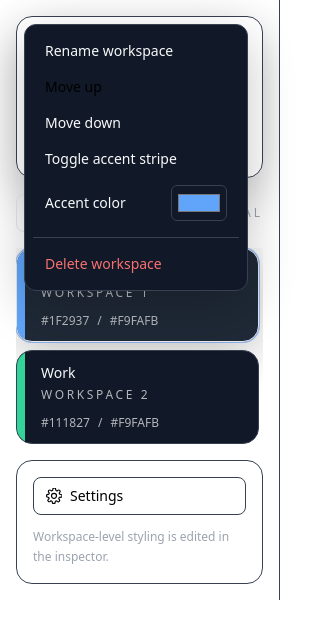
it: context menu dismissal › workspace menu rename action renames the workspace and closes the menu
Click the button "Rename workspace".
click(136, 51)  # box [33,33,239,69]
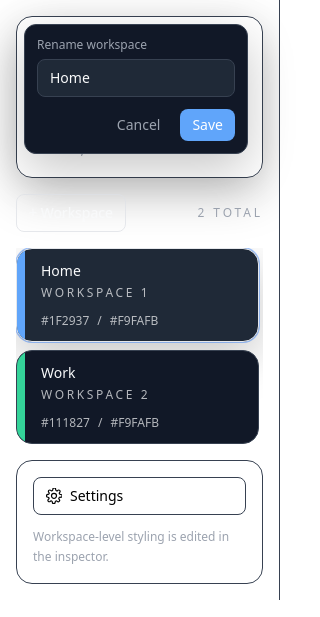
Now the field named "Workspace name" is shown
Replace the text in the field named "Workspace name" with "Renamed Home" at (136, 78), box [37,59,235,97]
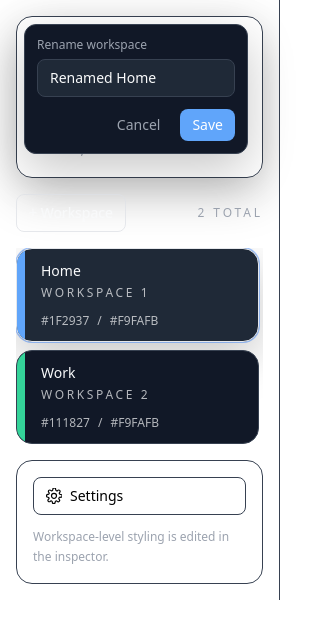
Now the button "Save" is shown
Click the button "Save".
click(208, 125)  # box [180,109,235,141]
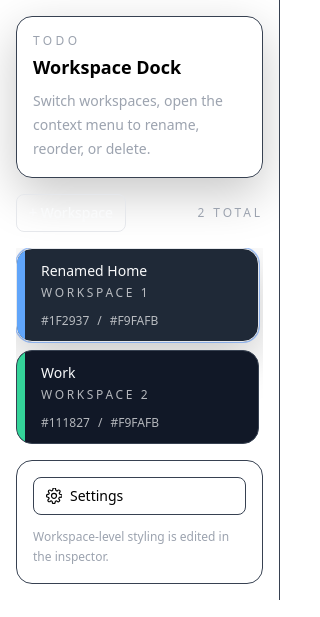
Now the text "Renamed Home" is shown, box [41,261,150,281]
